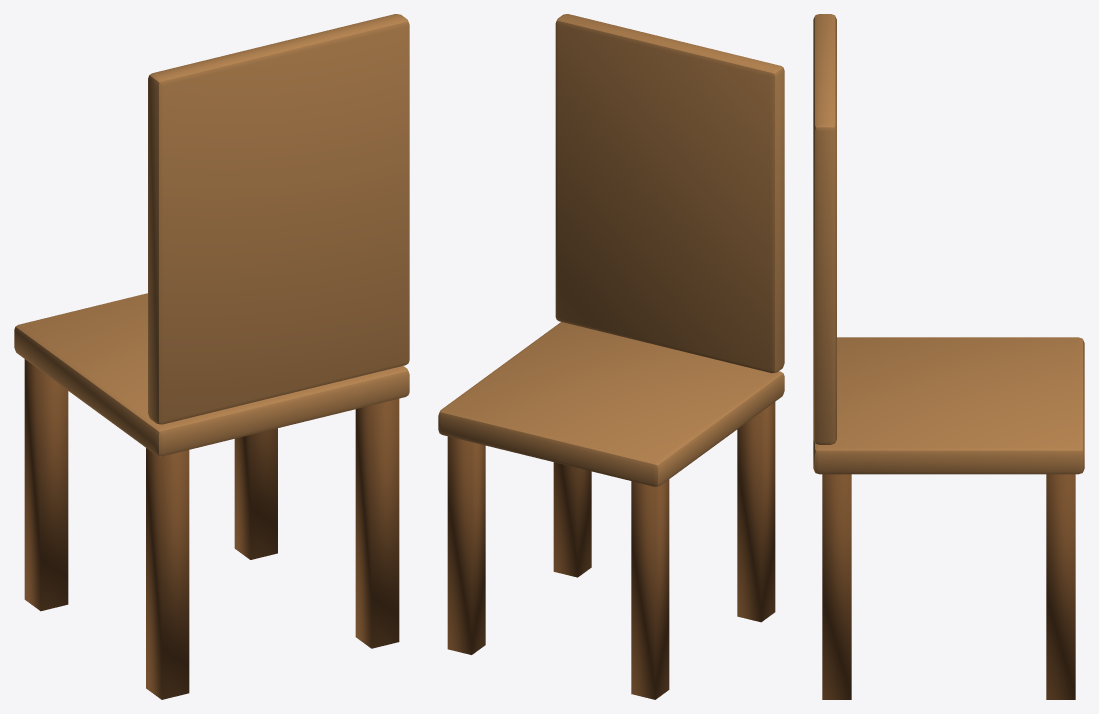
File: chair.glb
The picture shows the model from 3 angles, left to right: view 1: azimuth 30°, elevation 25°; view 2: azimuth 150°, elevation 25°; view 3: azimuth 270°, elevation 25°; orthographic projection. The views are drawn at different scales.
Parts seen in each view (by area): view 1: Chair; view 2: Chair; view 3: Chair.
Part boxes in pixels (left/top/right/bottom): Chair: left=14, top=14, right=409, bottom=699; Chair: left=438, top=14, right=784, bottom=699; Chair: left=813, top=14, right=1084, bottom=699.
Size of the model in its own units: 0.46 by 1.08 by 0.46.
